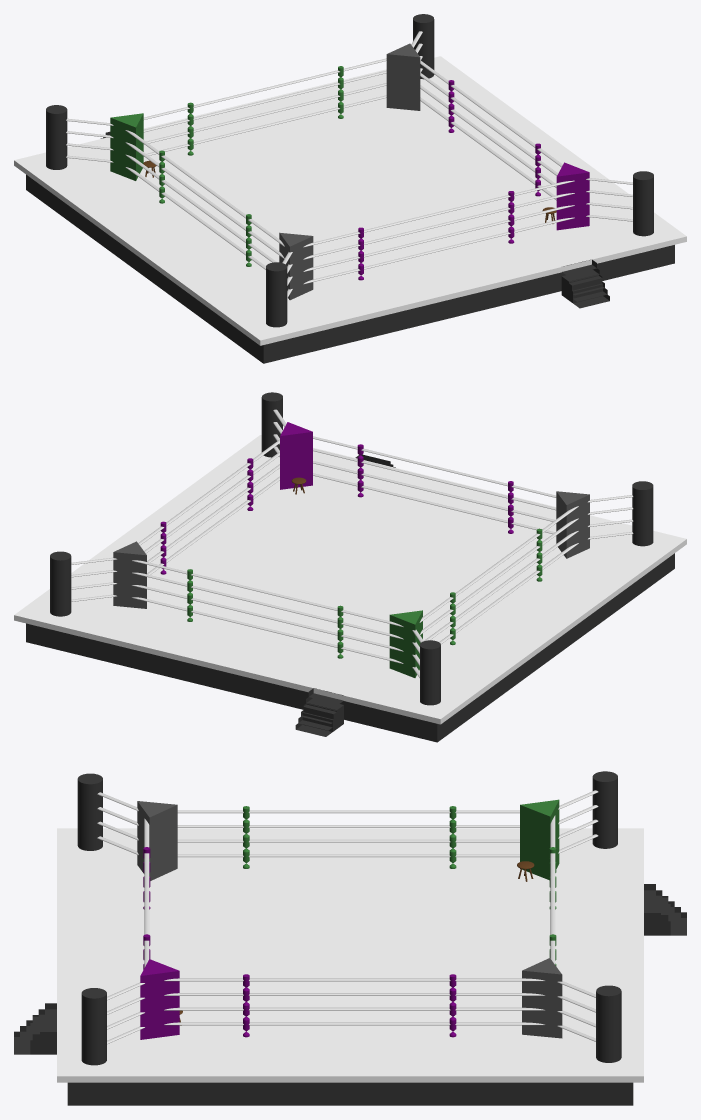
File: BoxingRing.fbx
The picture shows the model from 3 angles, top to bottom: view 1: azimuth 30°, elevation 25°; view 2: azimuth 150°, elevation 25°; view 3: azimuth 270°, elevation 25°; orthographic projection. The views are drawn at different scales.
Visible parts, largest first — view 1: BaseTop, Base, TriPillar.001, TriPillar.003, TriPillar, TriPillar.002, Stairs.001, CirPillar.003, CirPillar.001, CirPillar.004, CirPillar.002, Rope.039 (+15 smaller); view 2: BaseTop, Base, TriPillar.001, TriPillar.003, TriPillar.002, TriPillar, Stairs, CirPillar.002, CirPillar.003, CirPillar.001, CirPillar.004, Rope.001 (+15 smaller); view 3: BaseTop, Base, TriPillar.001, TriPillar.003, TriPillar.002, TriPillar, CirPillar.002, CirPillar.004, CirPillar.003, CirPillar.001, Stairs, Stairs.001 (+11 smaller).
Boxes of the visible parts, left/top/right/bottom form: BaseTop: left=14, top=56, right=686, bottom=345; Base: left=26, top=174, right=674, bottom=363; TriPillar.001: left=386, top=43, right=420, bottom=110; TriPillar.003: left=556, top=162, right=589, bottom=230; TriPillar: left=110, top=113, right=143, bottom=180; TriPillar.002: left=279, top=232, right=313, bottom=300; Stairs.001: left=561, top=259, right=609, bottom=308; CirPillar.003: left=266, top=262, right=287, bottom=327; CirPillar.001: left=46, top=105, right=67, bottom=169; CirPillar.004: left=633, top=171, right=653, bottom=236; CirPillar.002: left=413, top=14, right=434, bottom=79; Rope.039: left=303, top=205, right=574, bottom=271; BaseTop: left=14, top=435, right=686, bottom=724; Base: left=26, top=553, right=674, bottom=742; TriPillar.001: left=113, top=541, right=146, bottom=608; TriPillar.003: left=280, top=422, right=312, bottom=489; TriPillar.002: left=556, top=491, right=589, bottom=558; TriPillar: left=389, top=610, right=422, bottom=677; Stairs: left=295, top=688, right=343, bottom=736; CirPillar.002: left=50, top=551, right=71, bottom=616; CirPillar.003: left=632, top=481, right=653, bottom=546; CirPillar.001: left=420, top=640, right=440, bottom=705; CirPillar.004: left=261, top=392, right=282, bottom=457; Rope.001: left=132, top=560, right=403, bottom=627; BaseTop: left=57, top=828, right=643, bottom=1082; Base: left=67, top=1082, right=633, bottom=1105; TriPillar.001: left=522, top=958, right=562, bottom=1038; TriPillar.003: left=140, top=959, right=179, bottom=1039; TriPillar.002: left=137, top=801, right=177, bottom=880; TriPillar: left=520, top=799, right=559, bottom=880; CirPillar.002: left=596, top=985, right=621, bottom=1062; CirPillar.004: left=81, top=988, right=106, bottom=1065; CirPillar.003: left=77, top=773, right=102, bottom=850; CirPillar.001: left=592, top=771, right=617, bottom=848; Stairs: left=644, top=884, right=686, bottom=935; Stairs.001: left=14, top=1003, right=56, bottom=1054.
Size of the model in its own units: 3979 by 753 by 4563.
